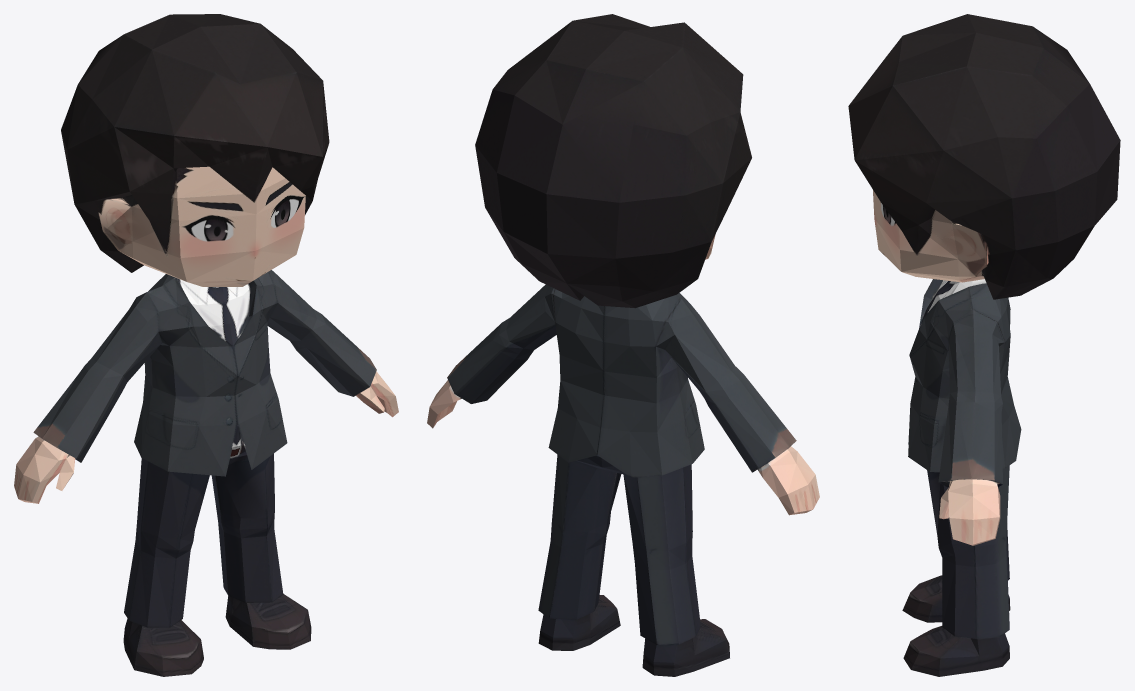
The picture shows the model from 3 angles, left to right: view 1: azimuth 30°, elevation 25°; view 2: azimuth 150°, elevation 25°; view 3: azimuth 270°, elevation 25°; orthographic projection. The views are drawn at different scales.
Size of the model in its own units: 1.29 by 2 by 0.822.
1 material, 1 textured.
